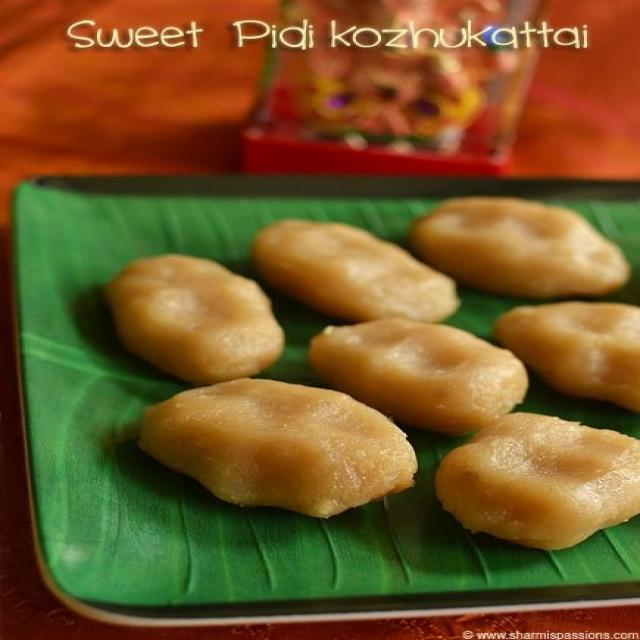pidi kolukattai: (133, 164, 640, 570)
